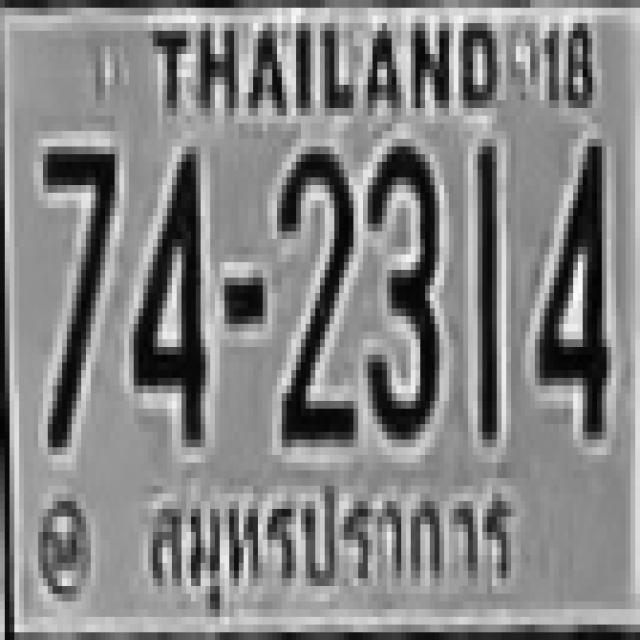1: (473, 139, 497, 439)
2: (277, 143, 353, 443)
3: (363, 139, 435, 432)
4: (535, 131, 606, 432), (129, 142, 201, 436)
7: (38, 139, 115, 447), (41, 138, 112, 354)
SamutPrakan: (135, 465, 530, 627)
